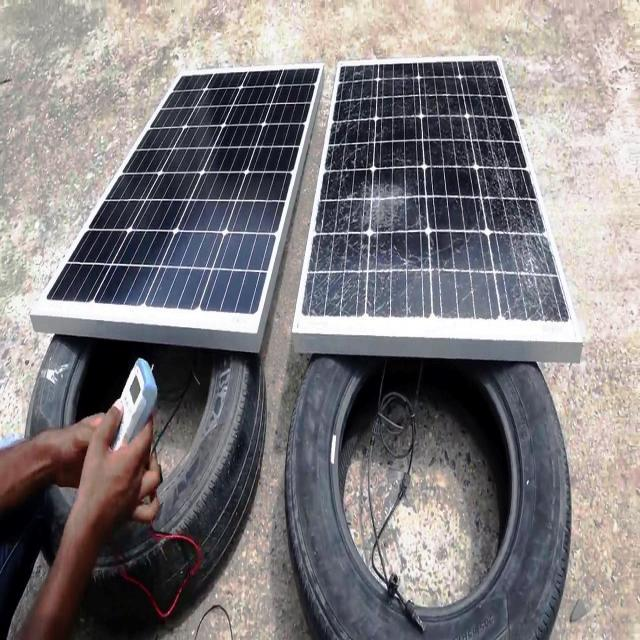faulty: (300, 56, 584, 338)
no faulty: (46, 61, 326, 342)
